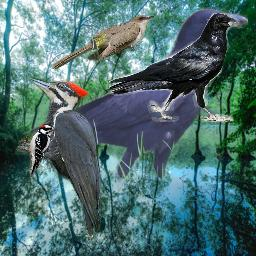Crow: (14, 7, 248, 197), (106, 13, 242, 122)
Cuckoo: (51, 14, 154, 69)
Woodpecker: (18, 76, 108, 241), (21, 124, 57, 178)
